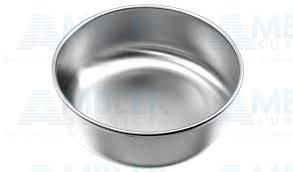Sponge Bowl: (50, 2, 242, 168)
